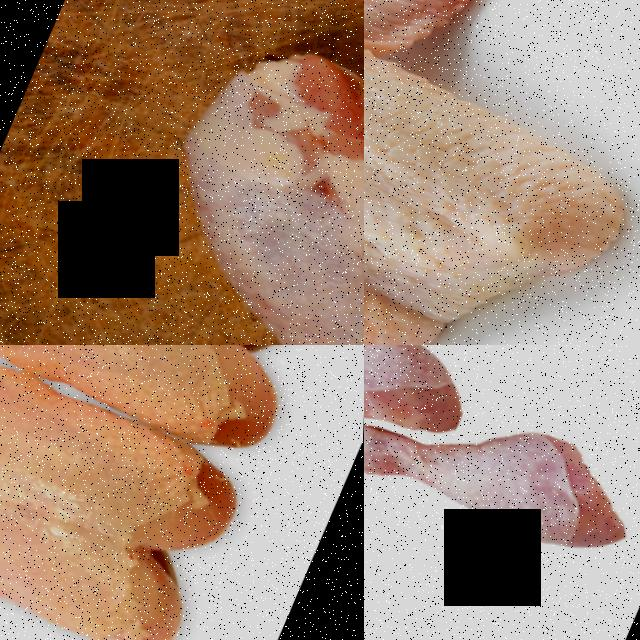chicken breast: (0, 345, 282, 640), (0, 345, 356, 463)
chicken thigh: (65, 3, 364, 345), (364, 365, 640, 581)
chicken wing: (364, 0, 640, 345)
